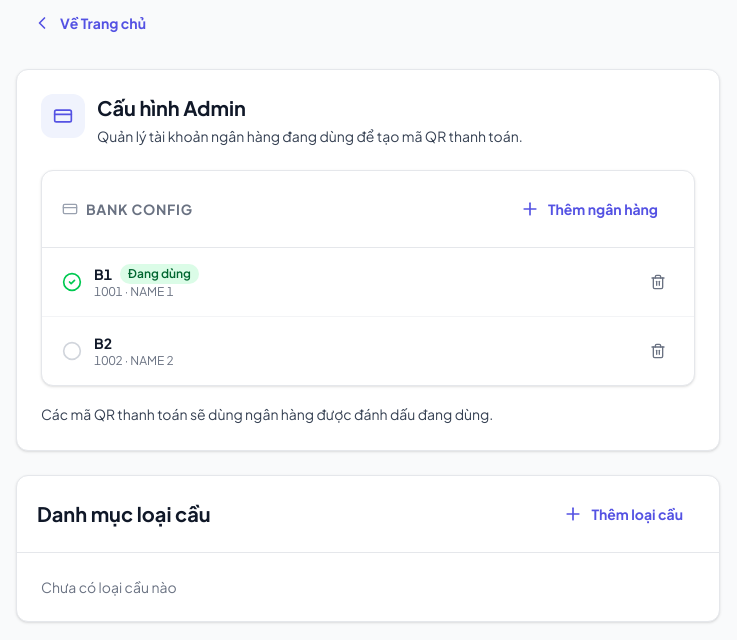
Test: SettingsView (I/O matrix) › row busy: toggle spinner and disabled, delete Icon Button disabled
Expected: the button named "Xóa ngân hàng" in the row of "1002 · NAME 2" is enabled, top-left (642, 335), bottom-right (674, 367)
Click the button named "Đặt mặc định" next to "B2": [72, 351] box top-left (62, 341), bottom-right (82, 361)
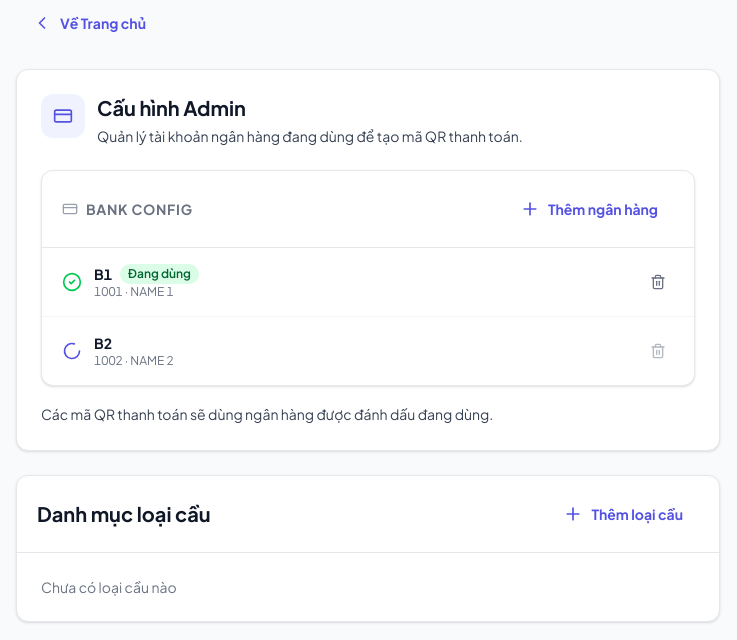
Expected: the button named "Xóa ngân hàng" in the row of "1001 · NAME 1" is enabled, top-left (642, 266), bottom-right (674, 298)
Expected: the button named "Xóa ngân hàng" in the row of "1002 · NAME 2" is disabled, top-left (642, 335), bottom-right (674, 367)
